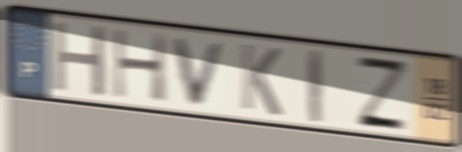H: (50, 18, 110, 100), (109, 26, 170, 105)
I: (305, 45, 326, 126)
K: (238, 40, 284, 120)
V: (171, 35, 231, 109)
Z: (353, 53, 412, 135)
